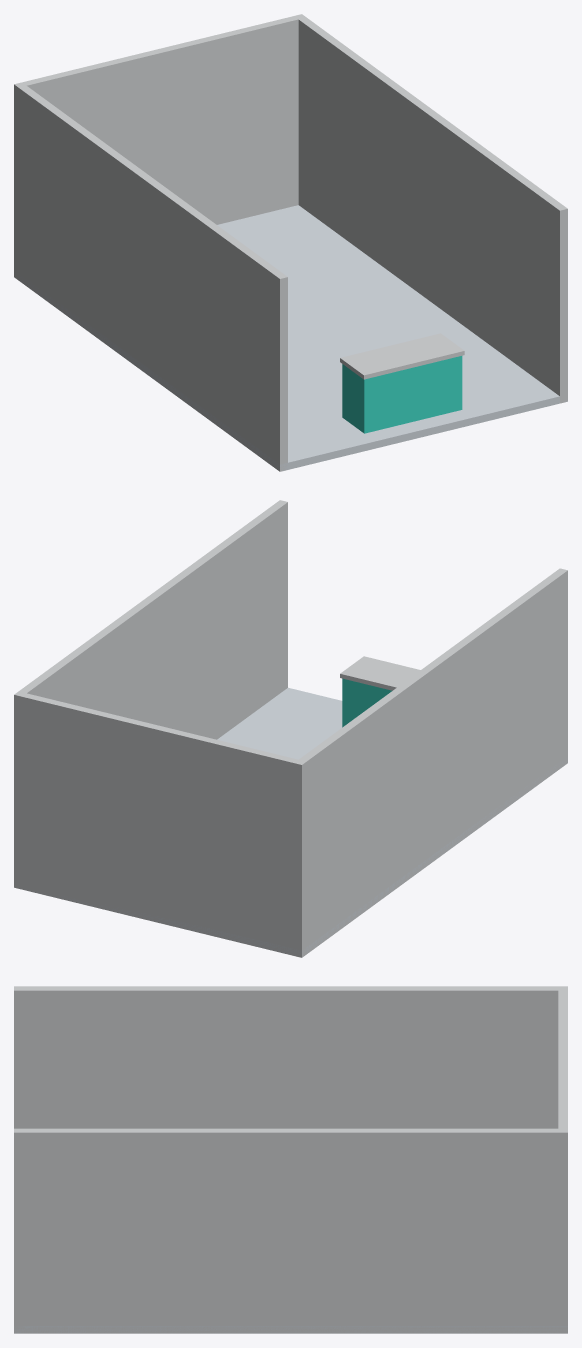
The picture shows the model from 3 angles, top to bottom: view 1: azimuth 30°, elevation 25°; view 2: azimuth 150°, elevation 25°; view 3: azimuth 270°, elevation 25°; orthographic projection. The views are drawn at different scales.
Visible parts, largest first — view 1: Exhibition Booth Concept; view 2: Exhibition Booth Concept; view 3: Exhibition Booth Concept.
Part boxes in pixels (x1=…): Exhibition Booth Concept: x1=14, y1=14, x2=567, y2=471; Exhibition Booth Concept: x1=14, y1=500, x2=567, y2=957; Exhibition Booth Concept: x1=14, y1=986, x2=567, y2=1333.
Size of the model in its own units: 5 by 3.2 by 8.
